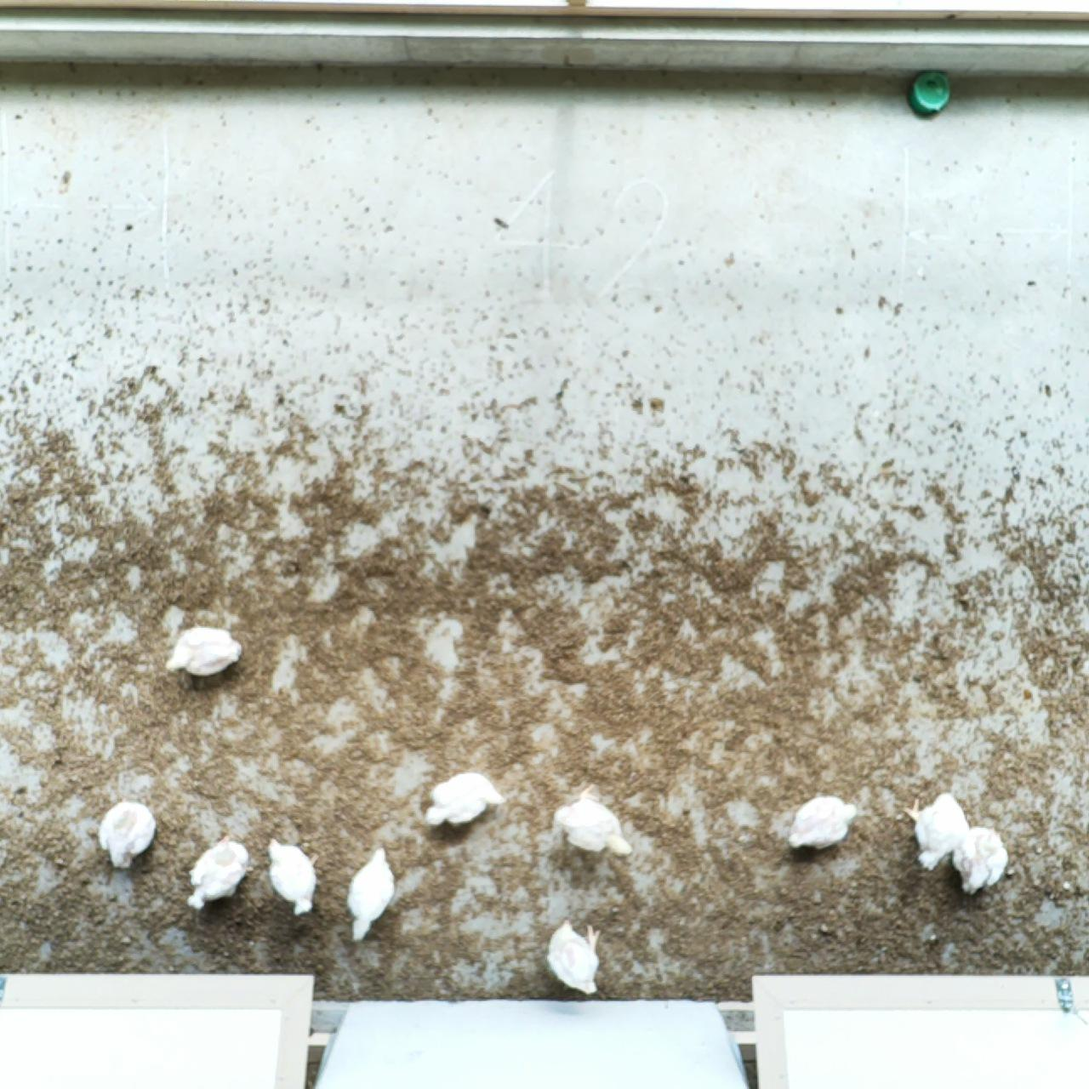chicken: (341, 840, 403, 947), (554, 780, 633, 859), (185, 830, 260, 912), (420, 765, 509, 833), (907, 787, 973, 871), (541, 916, 605, 1001), (162, 621, 249, 680), (97, 794, 161, 872), (786, 791, 862, 850), (266, 836, 321, 916), (954, 825, 1011, 901)
